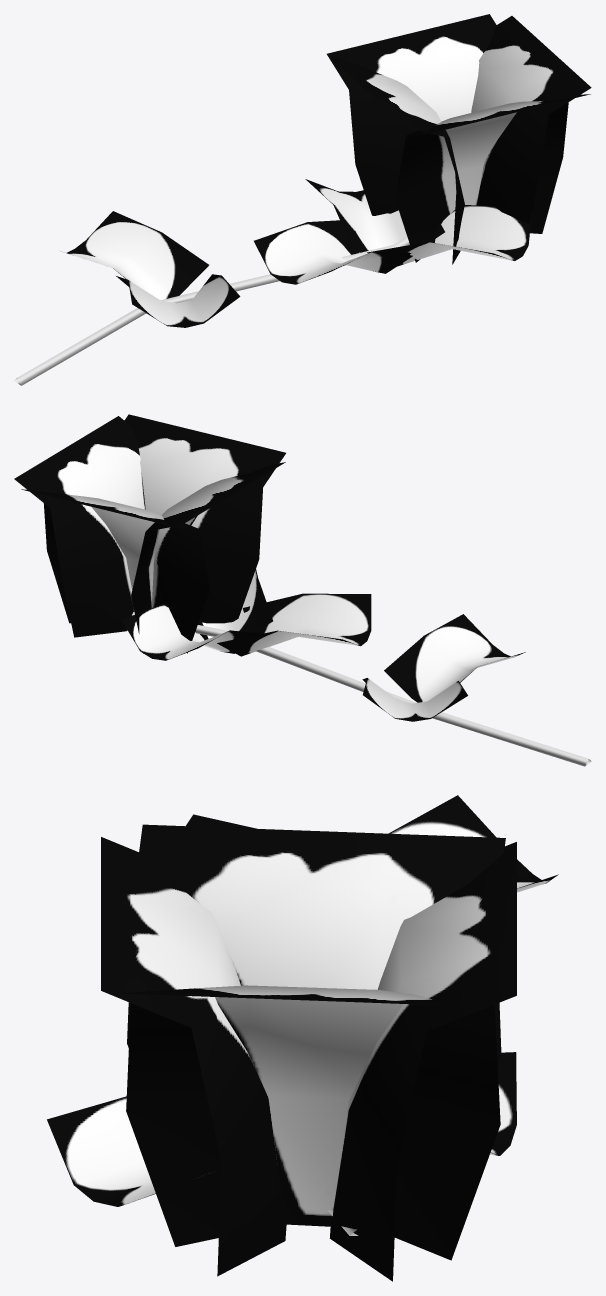
The model's file is florecillas.fbx.
3 renders of one model, top to bottom at view 1: azimuth 30°, elevation 25°; view 2: azimuth 150°, elevation 25°; view 3: azimuth 270°, elevation 25°, orthographic. The views are drawn at different scales.
Visible parts, largest first — view 1: Plane034, Plane035, Plane037, Plane040, Plane038, Plane039, Plane036, Plane032, Plane033, Cylinder051; view 2: Plane035, Plane037, Plane034, Plane038, Plane033, Plane036, Plane032, Cylinder051, Plane040, Plane039; view 3: Plane035, Plane036, Plane037, Plane034, Plane039, Plane040, Plane032.
Part boxes in pixels (left/top/right/bottom): Plane034: left=327, top=14, right=496, bottom=215; Plane035: left=471, top=16, right=591, bottom=223; Plane037: left=395, top=94, right=590, bottom=262; Plane040: left=66, top=211, right=208, bottom=300; Plane038: left=254, top=220, right=412, bottom=284; Plane039: left=367, top=205, right=531, bottom=266; Plane036: left=328, top=55, right=464, bottom=264; Plane032: left=305, top=179, right=444, bottom=252; Plane033: left=116, top=274, right=240, bottom=327; Cylinder051: left=14, top=237, right=409, bottom=385; Plane035: left=14, top=416, right=145, bottom=637; Plane037: left=124, top=414, right=285, bottom=623; Plane034: left=21, top=489, right=209, bottom=653; Plane038: left=217, top=593, right=371, bottom=656; Plane033: left=384, top=614, right=525, bottom=702; Plane036: left=131, top=462, right=285, bottom=653; Plane032: left=121, top=603, right=261, bottom=660; Cylinder051: left=132, top=612, right=591, bottom=766; Plane040: left=362, top=678, right=467, bottom=721; Plane039: left=202, top=569, right=272, bottom=638; Plane035: left=122, top=985, right=500, bottom=1260; Plane036: left=127, top=824, right=505, bottom=1066; Plane037: left=101, top=837, right=286, bottom=1276; Plane034: left=329, top=842, right=516, bottom=1281; Plane039: left=47, top=1096, right=220, bottom=1206; Plane040: left=389, top=795, right=558, bottom=892; Plane032: left=490, top=1052, right=516, bottom=1155.
Bounding box in the file's own units: 43.69 × 18.4 × 15.21.
